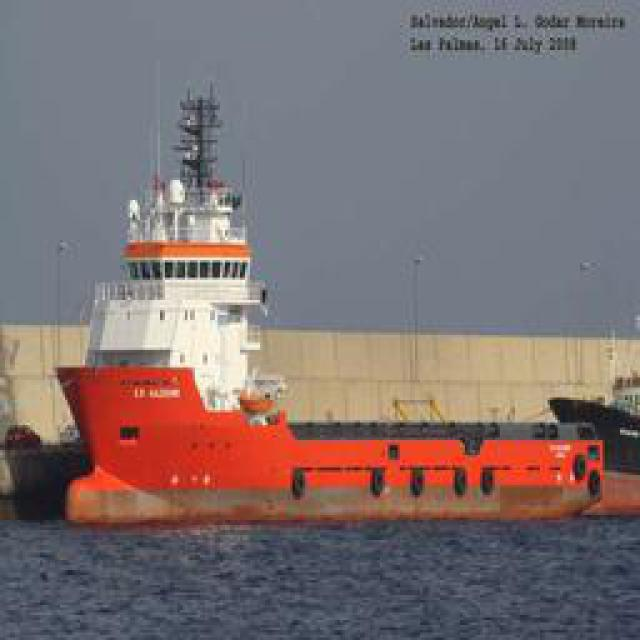Ship: (57, 375, 600, 528)
